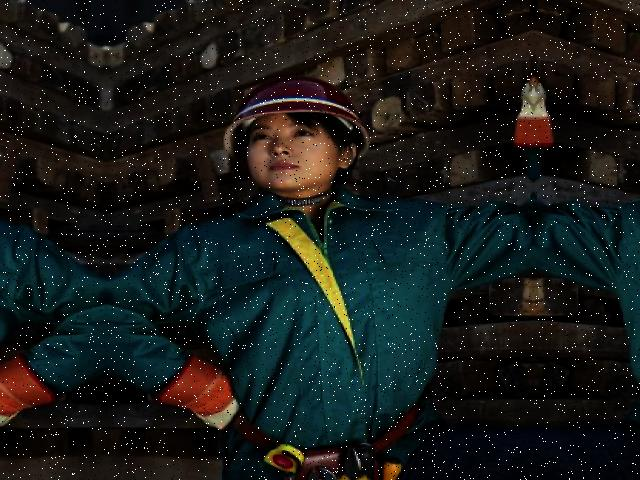Helmet: (214, 71, 378, 171)
